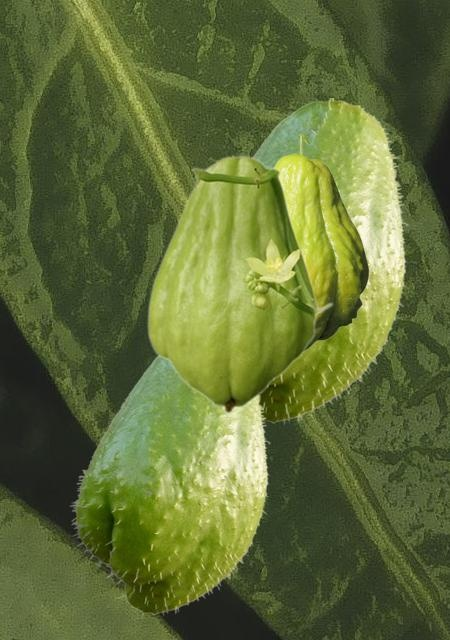sayote: (69, 356, 269, 617), (253, 98, 407, 425), (146, 155, 333, 413), (274, 132, 368, 349)
